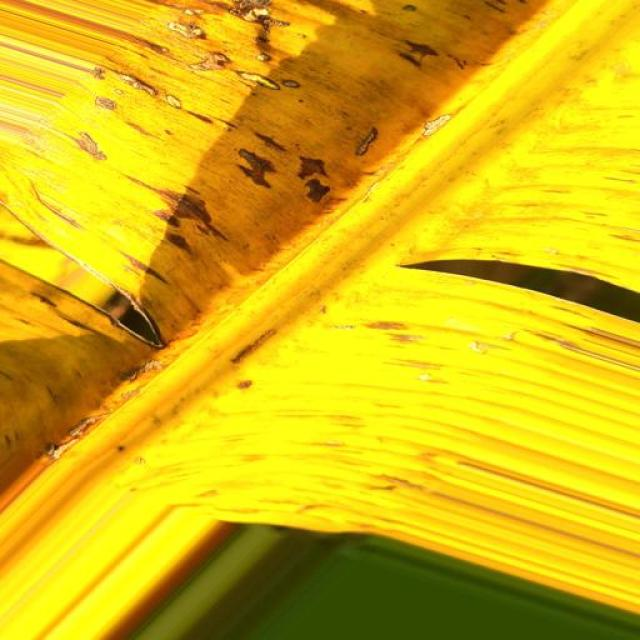Cordana: (0, 0, 639, 629)
